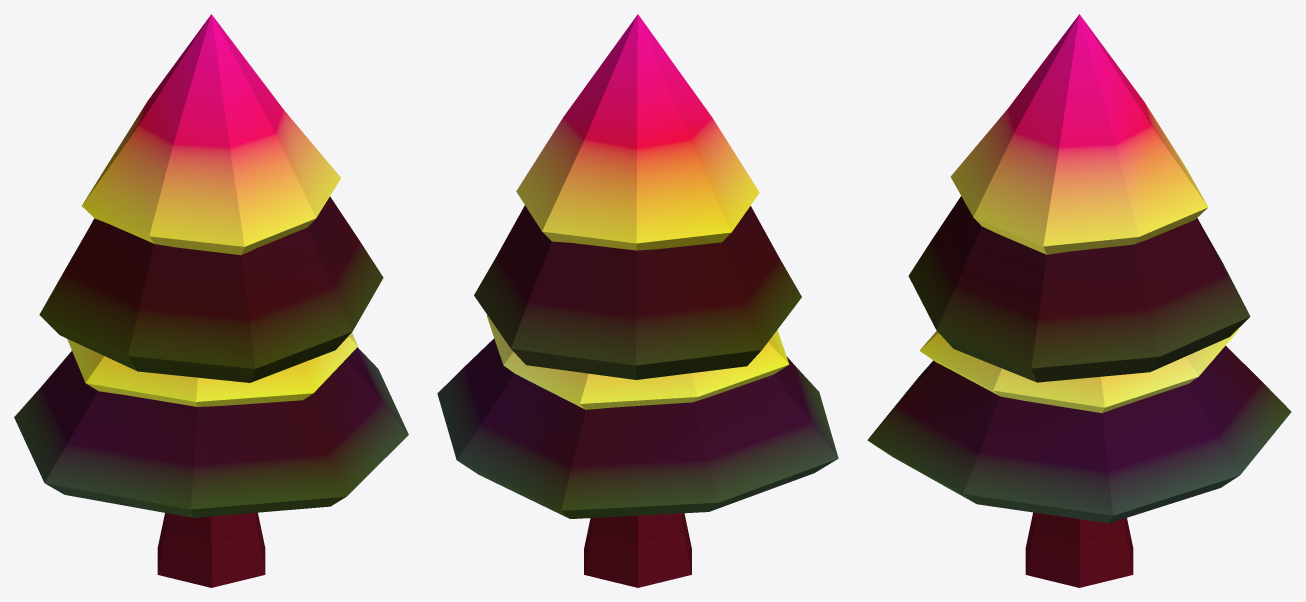
Rendered from Tree_Pine_Snow_Small.fbx.
3 renders of one model, left to right at view 1: azimuth 30°, elevation 25°; view 2: azimuth 150°, elevation 25°; view 3: azimuth 270°, elevation 25°, orthographic.
Visible parts, largest first — view 1: Tree_Pine_Snow_Small; view 2: Tree_Pine_Snow_Small; view 3: Tree_Pine_Snow_Small.
Boxes of the visible parts, x1,y1,x2,y2 form: Tree_Pine_Snow_Small: (14, 14, 408, 587); Tree_Pine_Snow_Small: (437, 14, 838, 587); Tree_Pine_Snow_Small: (867, 14, 1291, 587).
Bounding box in the file's own units: 1.82 × 2.59 × 1.82.
